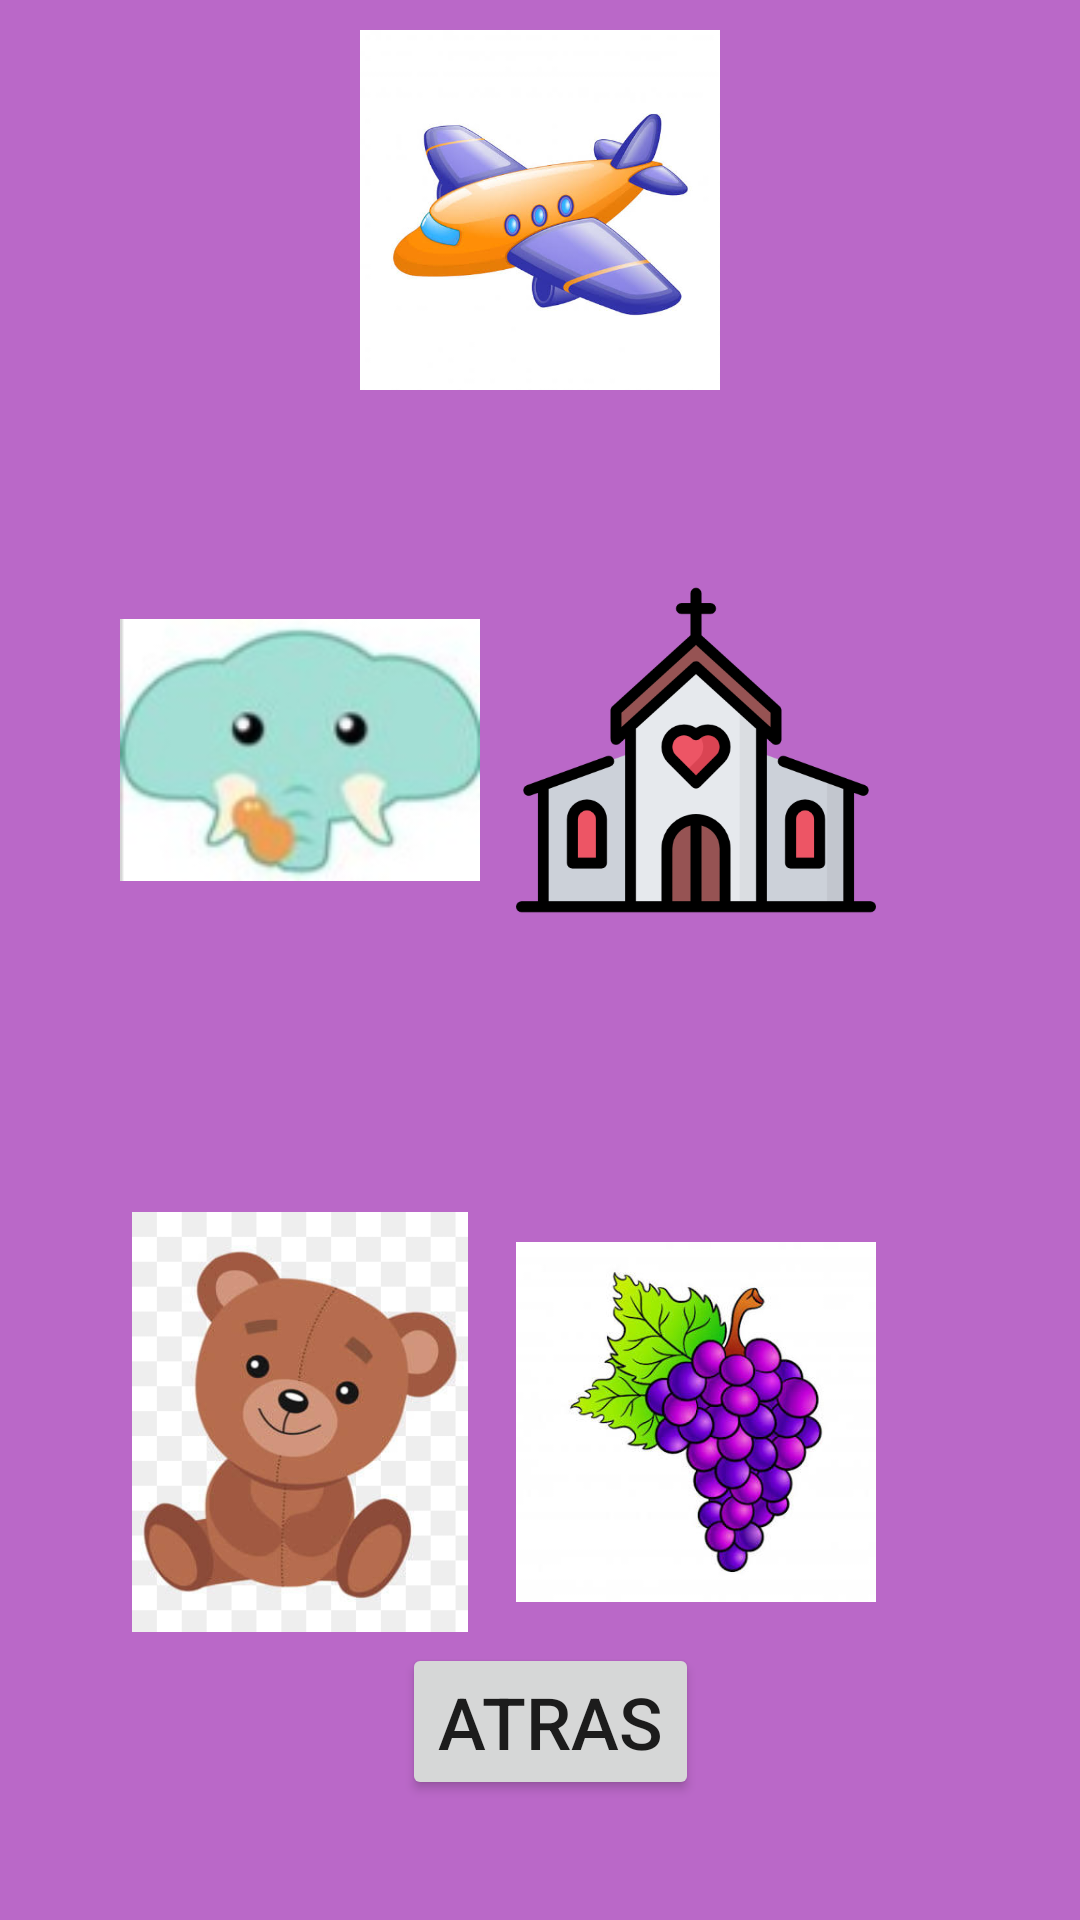

Named icons in this screenshot (1080×1920) and their bounding boxes, (x1, y1, x2, y2):
avion: (360, 30, 720, 390)
elefante: (120, 619, 480, 881)
iglesia: (516, 587, 876, 913)
uva: (516, 1242, 876, 1602)
